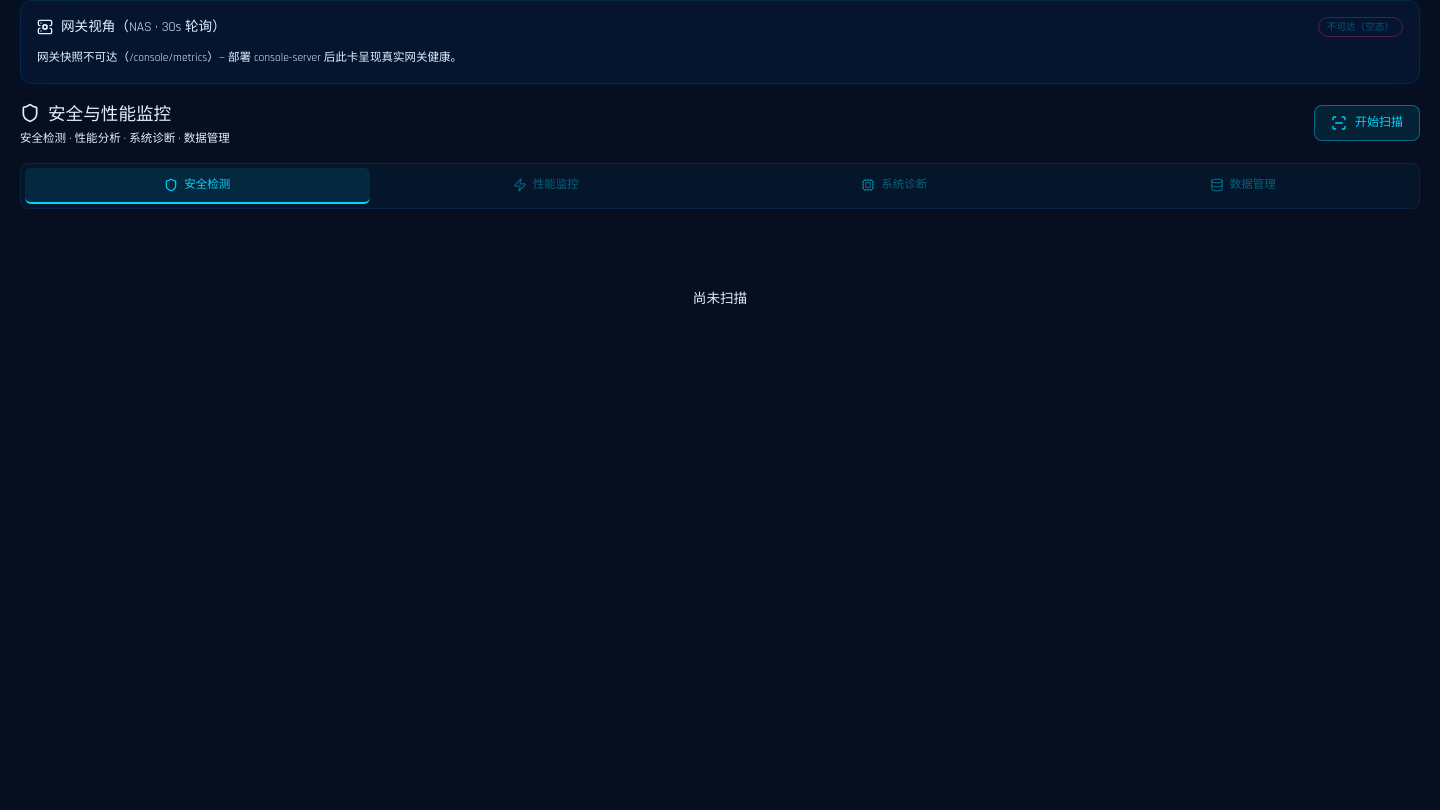
Test case: SecurityMonitor › shows scan results after scanning completes
This screenshot has width=1440, height=810.
Click the button "开始扫描". click: [1367, 124]
box: [1314,106,1420,142]
Wait 2000 ms
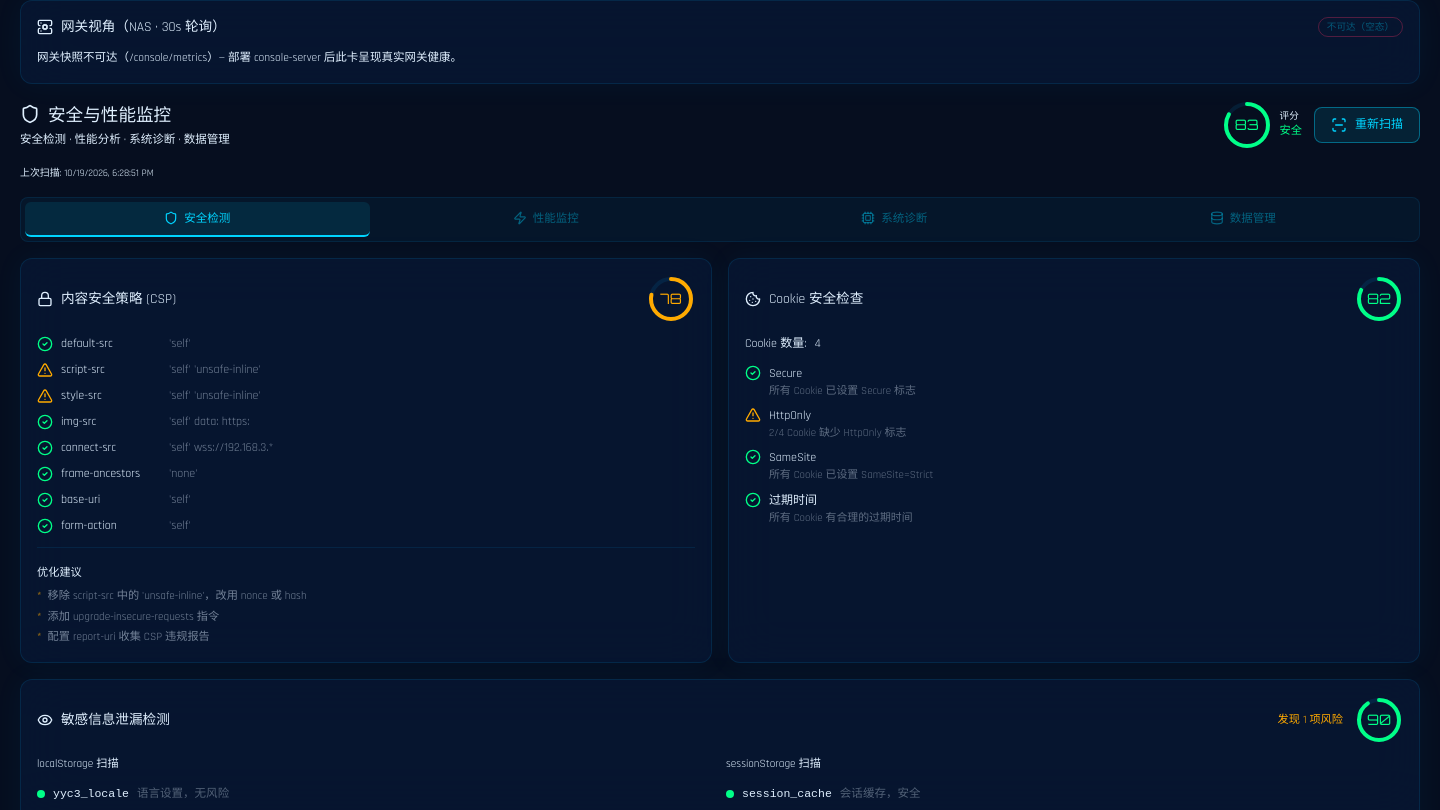
Now the text "内容安全策略 (CSP)" is shown, box [61,289,176,309]
Now the text "Cookie 安全检查" is shown, box [769,289,863,309]
Now the text "敏感信息泄漏检测" is shown, box [61,710,170,730]
